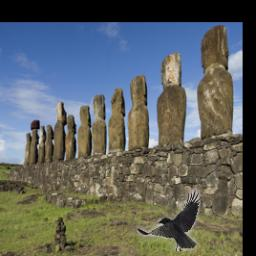Crow: (138, 190, 202, 252)
